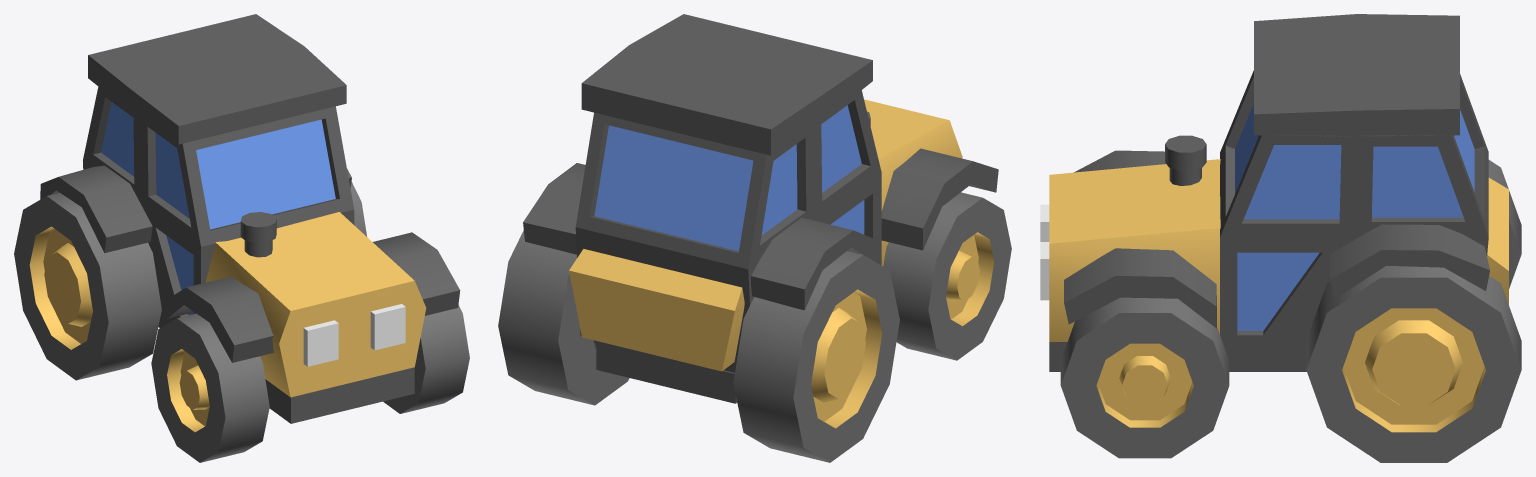
The model's file is Tractor.fbx.
3 renders of one model, left to right at view 1: azimuth 30°, elevation 25°; view 2: azimuth 150°, elevation 25°; view 3: azimuth 270°, elevation 25°, orthographic. The views are drawn at different scales.
Parts seen in each view (by area): view 1: Tractor; view 2: Tractor; view 3: Tractor.
Boxes of the visible parts, x1,y1,x2,y2 form: Tractor: (14,14,469,462); Tractor: (498,14,1011,462); Tractor: (1040,14,1521,462).
Size of the model in its own units: 203 by 214 by 284.
